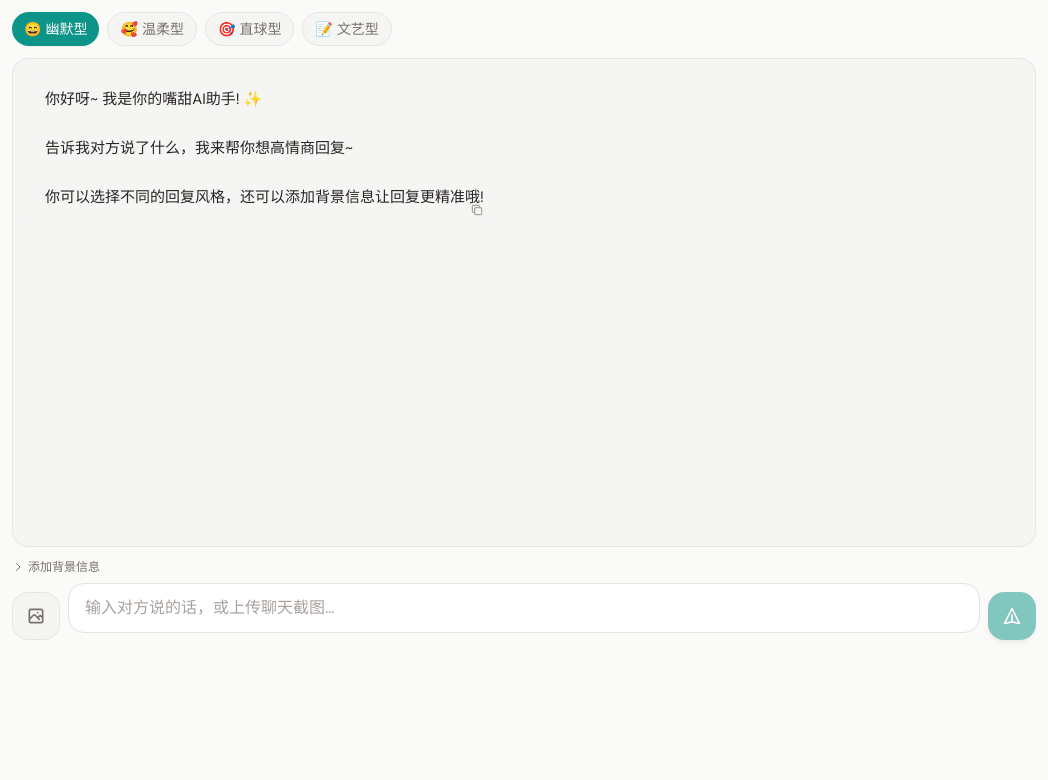
ChatAssistant › shows context input field when 添加背景信息 is clicked
Click the button "添加背景信息" at (56, 567), box [12, 559, 100, 575]
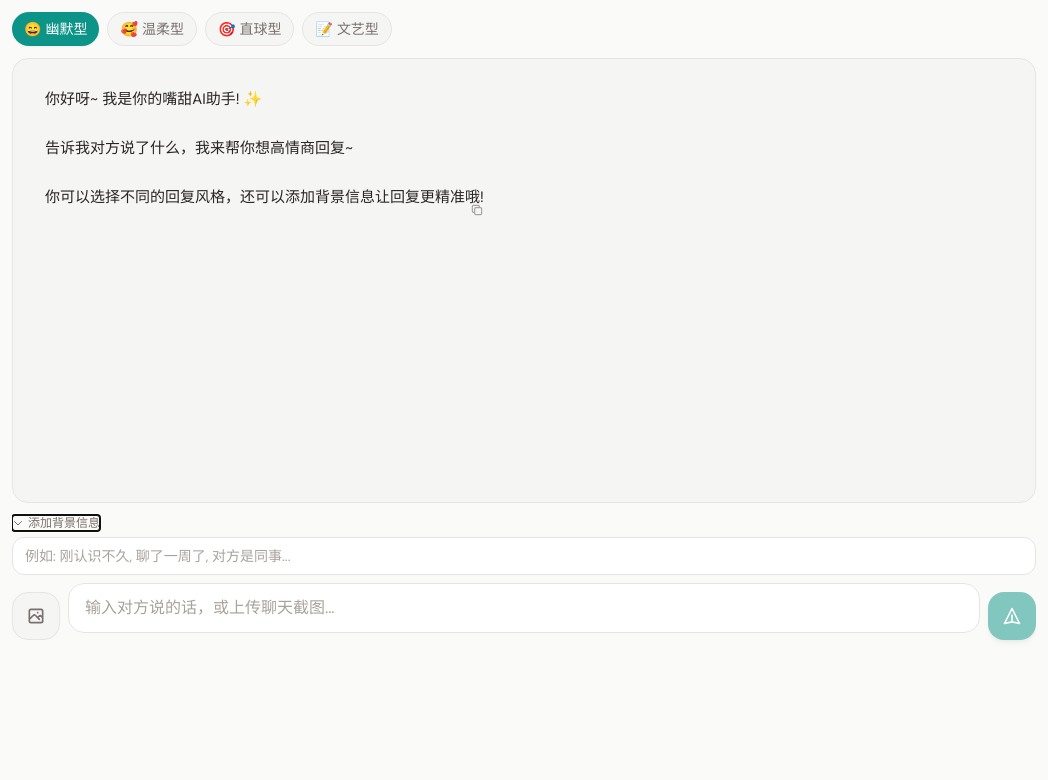
Expected: the field with placeholder "例如: 刚认识不久, 聊了一周了, 对方是同事..." is shown, [12, 537, 1036, 575]
